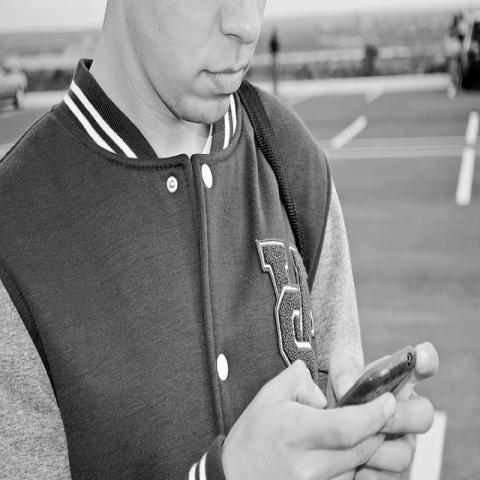car: (454, 22, 480, 90), (0, 62, 28, 112)
